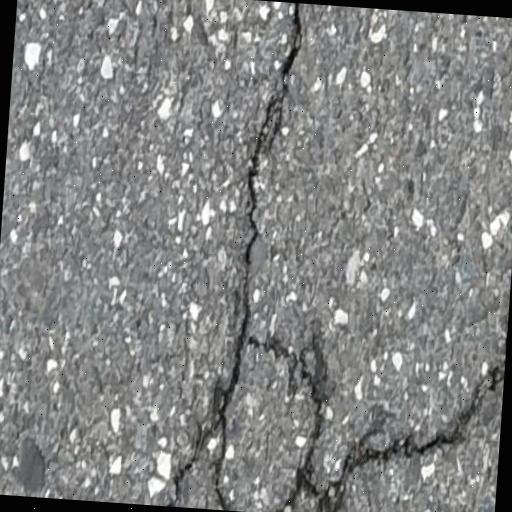spalling: (155, 3, 313, 507), (307, 357, 501, 512), (207, 326, 328, 512)
